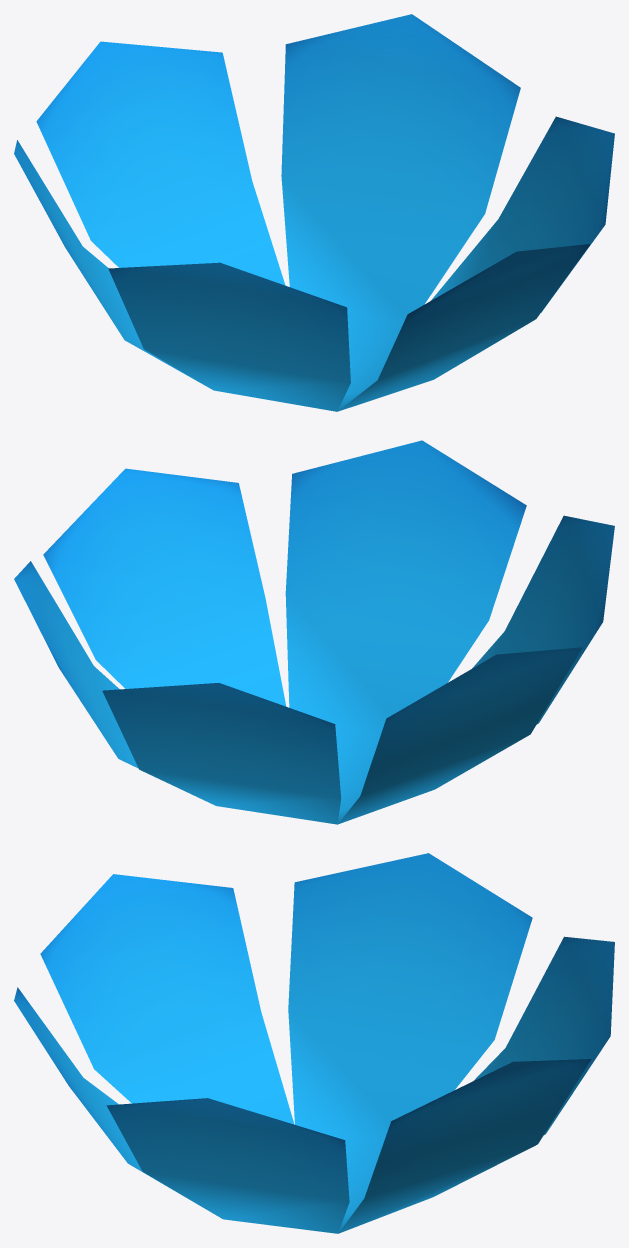
Rendered from Flower_Blue.fbx.
3 views of the same model, one above another, from view 1: azimuth 30°, elevation 25°; view 2: azimuth 150°, elevation 25°; view 3: azimuth 270°, elevation 25° (orthographic). The views are drawn at different scales.
Parts seen in each view (by area): view 1: Flower_Blue; view 2: Flower_Blue; view 3: Flower_Blue.
Part boxes in pixels (x1=…): Flower_Blue: x1=14, y1=14, x2=614, y2=411; Flower_Blue: x1=14, y1=440, x2=614, y2=824; Flower_Blue: x1=14, y1=853, x2=614, y2=1233.
Bounding box in the file's own units: 0.2695 × 0.1311 × 0.2801.
1 material, 1 textured.
